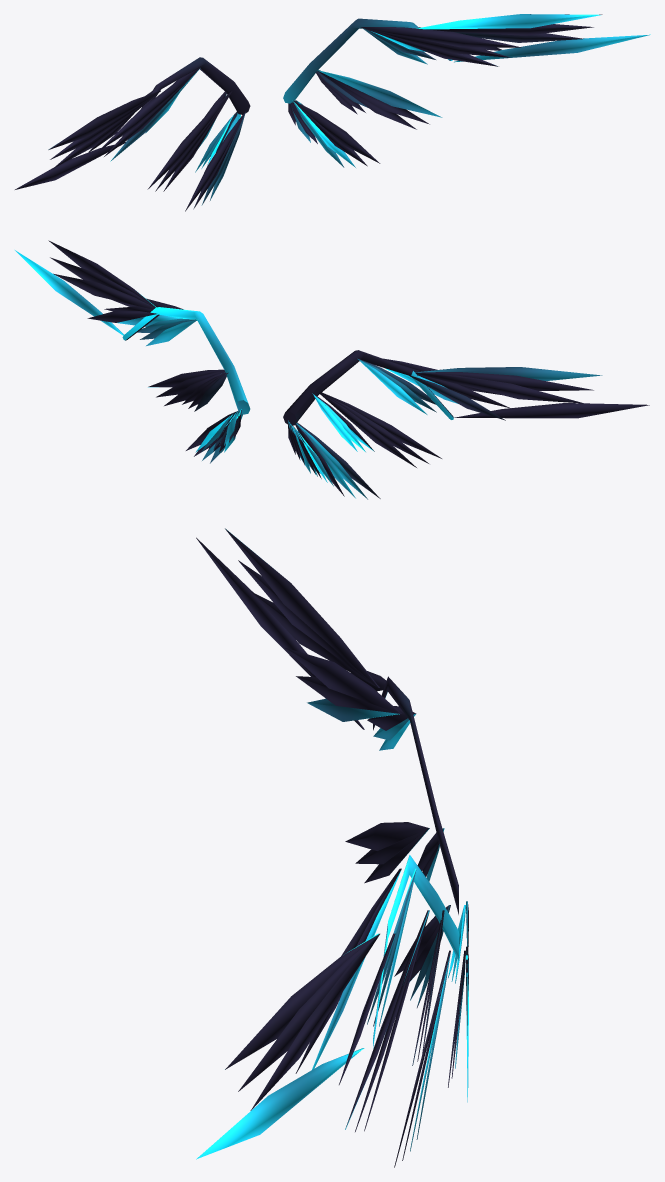
Rendered from aion2_ethereal_wings_LOD1.glb.
3 renders of one model, top to bottom at view 1: azimuth 30°, elevation 25°; view 2: azimuth 150°, elevation 25°; view 3: azimuth 270°, elevation 25°, orthographic. The views are drawn at different scales.
Parts seen in each view (by area): view 1: aion2_ethereal_wings_LOD1; view 2: aion2_ethereal_wings_LOD1; view 3: aion2_ethereal_wings_LOD1.
Boxes of the visible parts, <box> form: aion2_ethereal_wings_LOD1: <box>15,14,650,211</box>; aion2_ethereal_wings_LOD1: <box>15,240,649,499</box>; aion2_ethereal_wings_LOD1: <box>196,528,468,1167</box>.
Size of the model in its own units: 6.83 by 1.53 by 1.27.
Materials: 1 (1 with a texture image).
